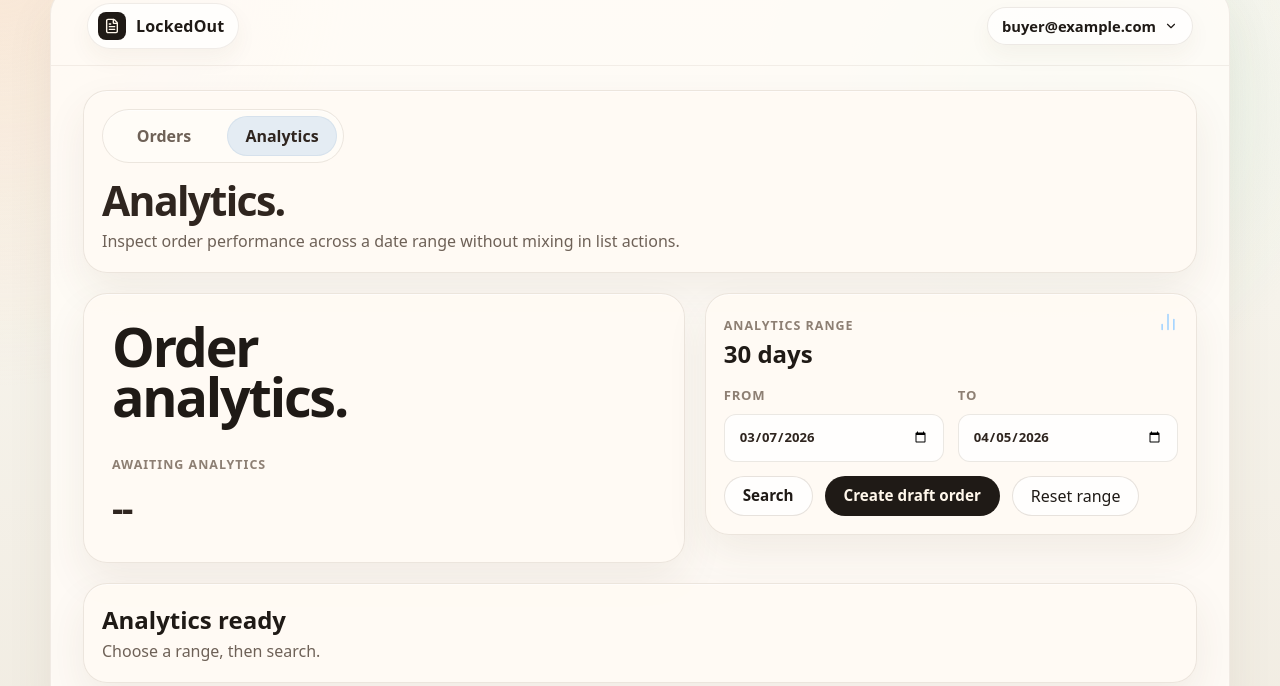
Test: Orders analytics page › keeps the empty state free of chart panels when analytics returns no orders
The image size is (1280, 686).
Click the button "Search" at (768, 496), box [724, 476, 813, 516]
(page scrolled)
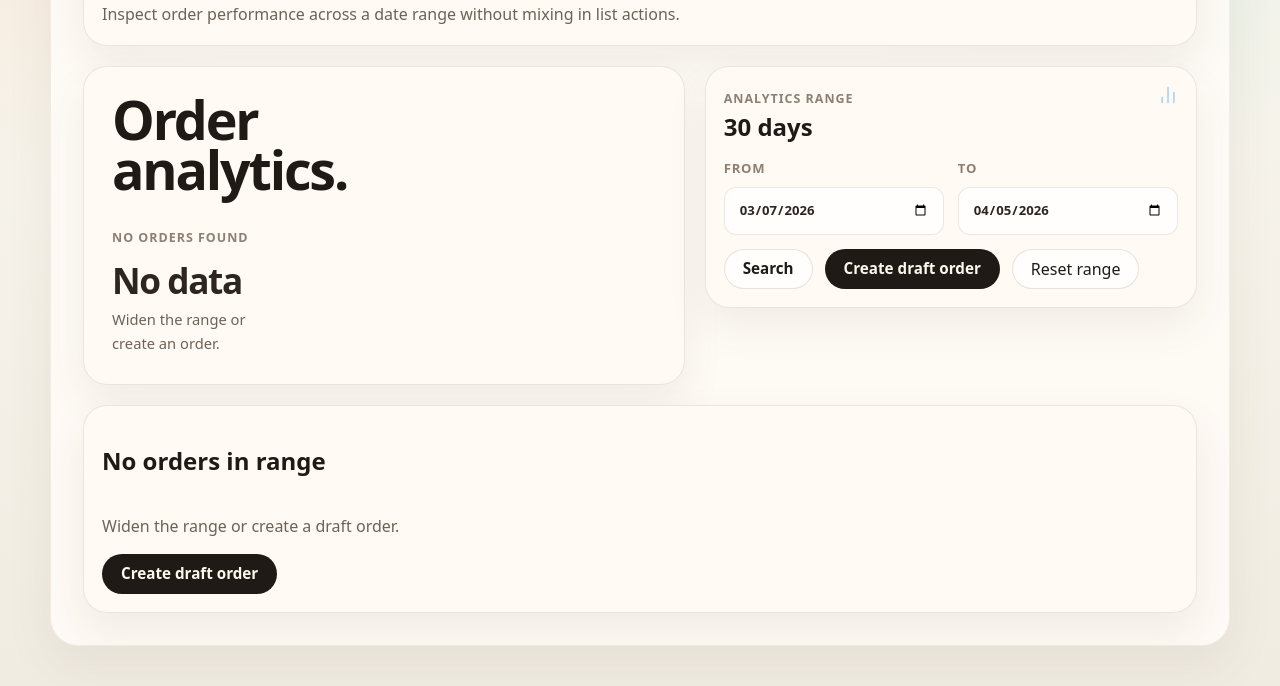
Expected: the heading "No orders in range" is shown, [102, 444, 326, 478]
